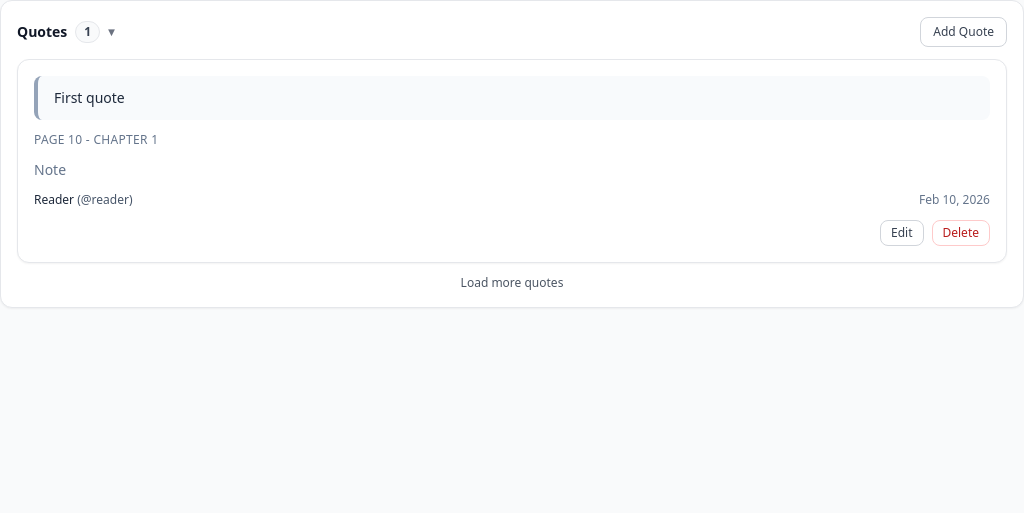
QuoteList › loads additional quotes when pagination is available
This screenshot has width=1024, height=513.
Click the button "Load more quotes" at (512, 283), box [461, 275, 563, 291]
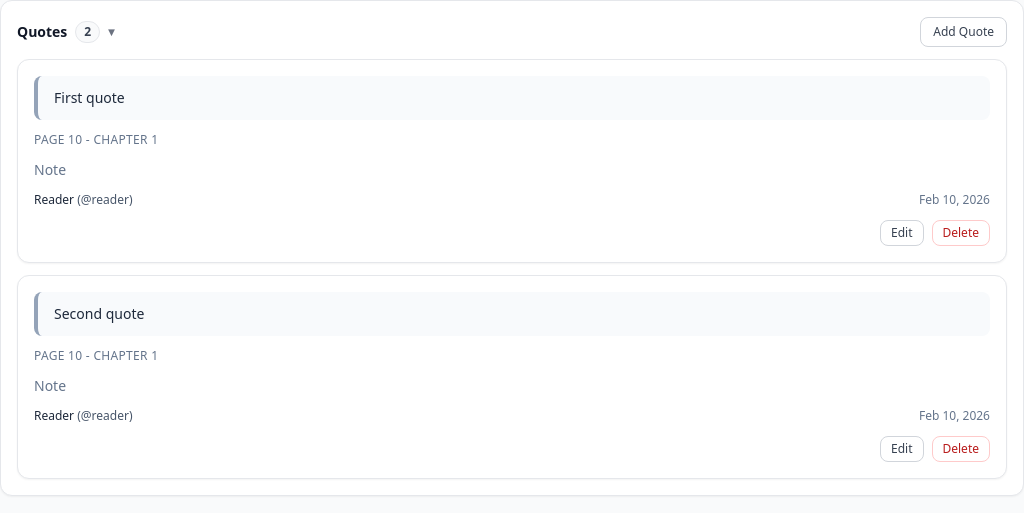
Expected: the number of elements with test id "quote-card" is 2, [17, 59, 1007, 263]; [17, 275, 1007, 479]
